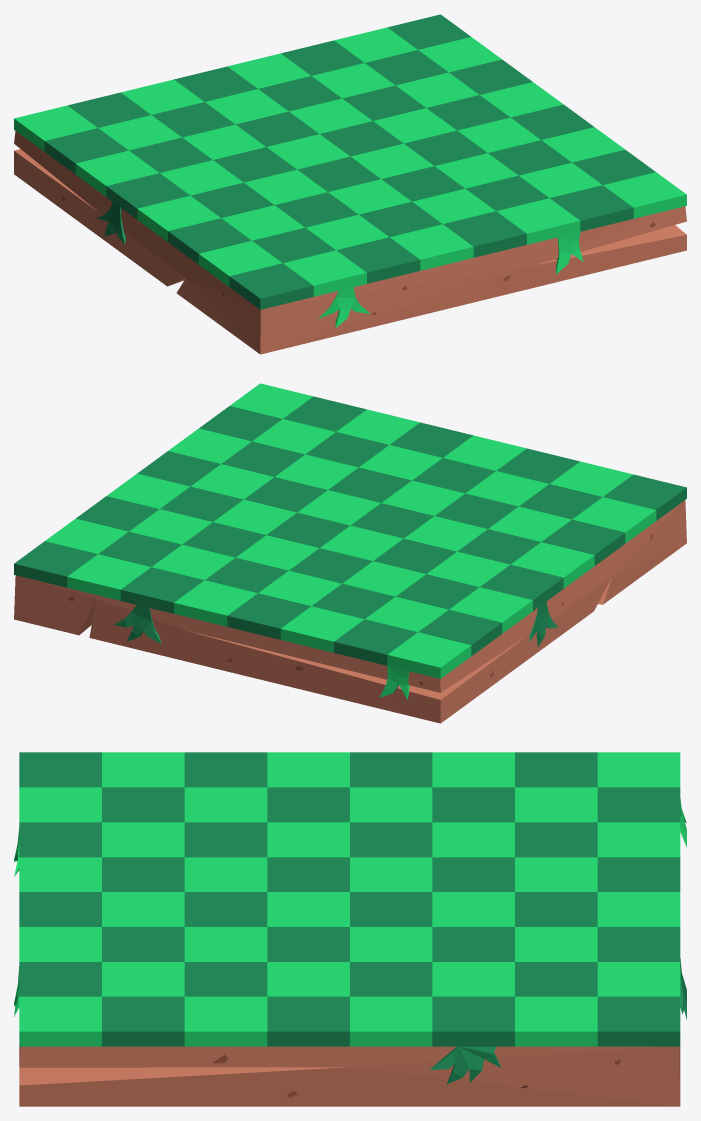
The model's file is Ground.fbx.
3 renders of one model, top to bottom at view 1: azimuth 30°, elevation 25°; view 2: azimuth 150°, elevation 25°; view 3: azimuth 270°, elevation 25°, orthographic. The views are drawn at different scales.
Parts seen in each view (by area): view 1: GroundGrass8; view 2: GroundGrass8; view 3: GroundGrass8.
Part boxes in pixels (left/top/right/bottom): GroundGrass8: left=14, top=14, right=686, bottom=354; GroundGrass8: left=14, top=383, right=686, bottom=723; GroundGrass8: left=14, top=752, right=686, bottom=1106.
Size of the model in its own units: 815 by 100 by 815.
